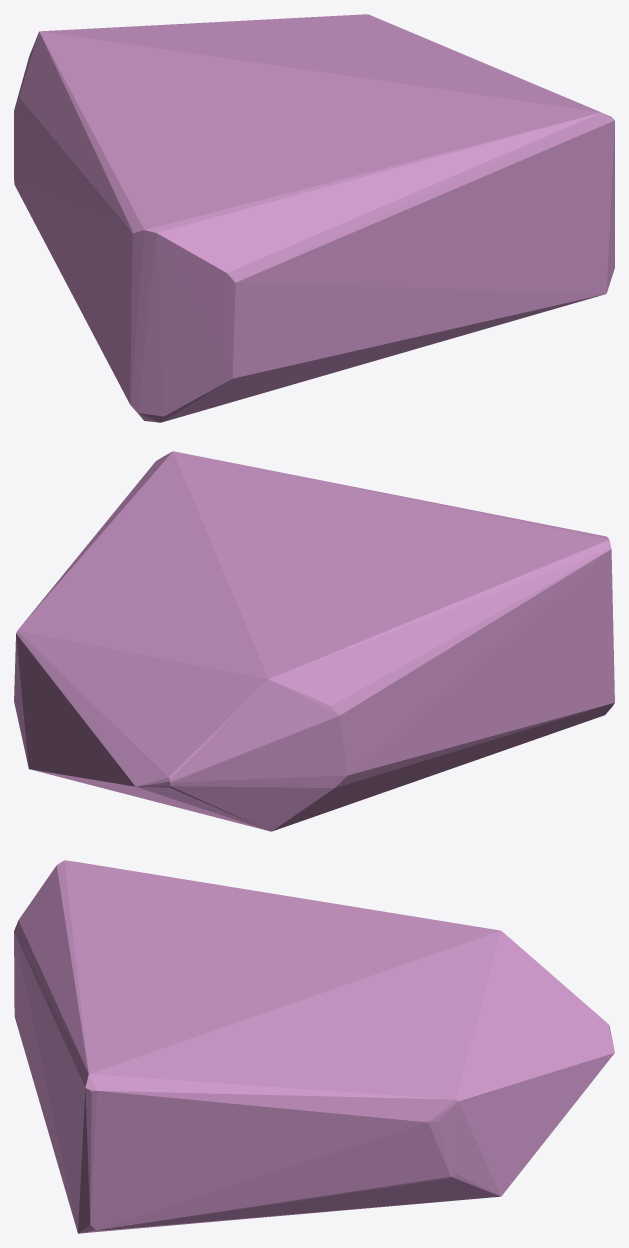
Rendered from cart_mobile_b01.glb.
3 renders of one model, top to bottom at view 1: azimuth 30°, elevation 25°; view 2: azimuth 150°, elevation 25°; view 3: azimuth 270°, elevation 25°, orthographic. The views are drawn at different scales.
Parts seen in each view (by area): view 1: geometry_0; view 2: geometry_0; view 3: geometry_0.
Part boxes in pixels (bbox=[...]): geometry_0: bbox=[14, 14, 614, 422]; geometry_0: bbox=[14, 451, 614, 831]; geometry_0: bbox=[14, 860, 614, 1233].
Bounding box in the file's own units: 0.4125 × 0.1539 × 0.4796.
